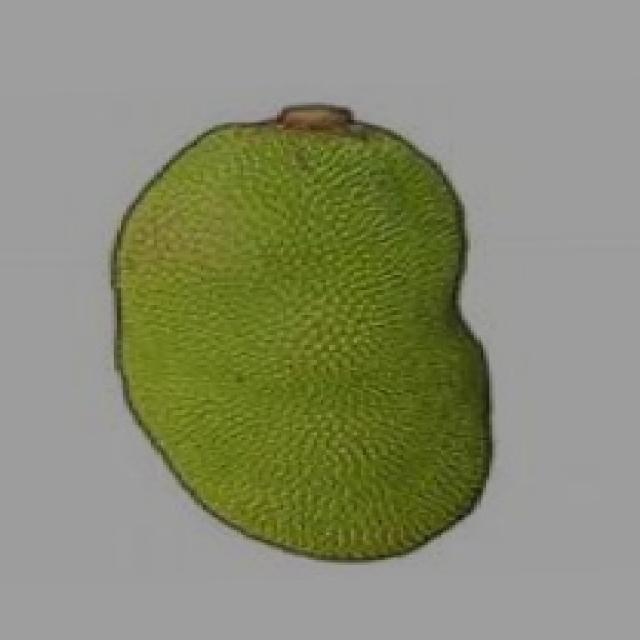Fruit: (86, 85, 508, 407)
